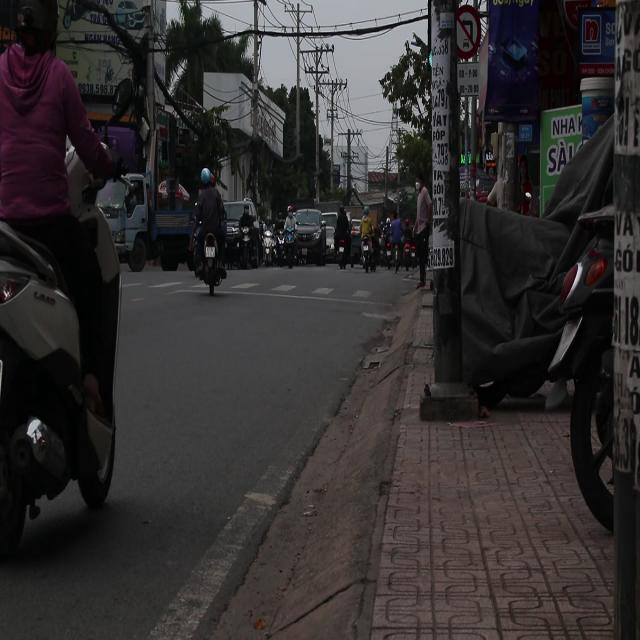car: (292, 209, 326, 266)
motorbike: (0, 230, 125, 510), (195, 224, 219, 297), (276, 221, 303, 270), (333, 228, 351, 278), (261, 227, 279, 268), (359, 230, 373, 273)
truck: (96, 177, 196, 270)
